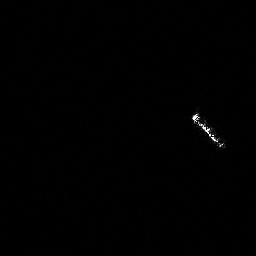ship: (188, 109, 228, 152)
